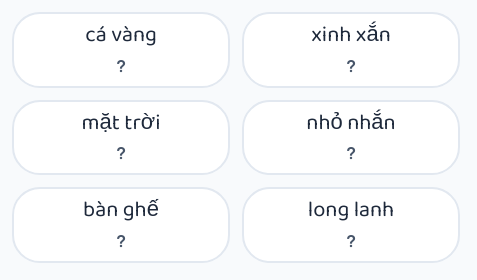
it: neu-cau-muon-co-mot-nguoi-ban visuals › names a word's kind once tapped
Click the button "xinh xắn ?": [351, 50] box [242, 12, 460, 88]
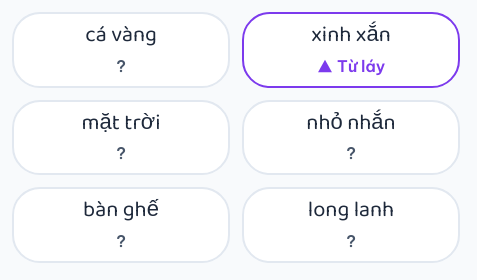
Check: the button "xinh xắn Từ láy" is shown, box [242, 12, 460, 88]
